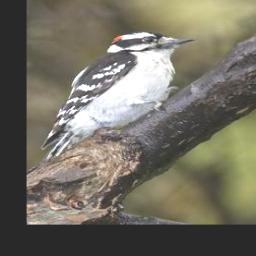Woodpecker: (42, 31, 197, 164)
